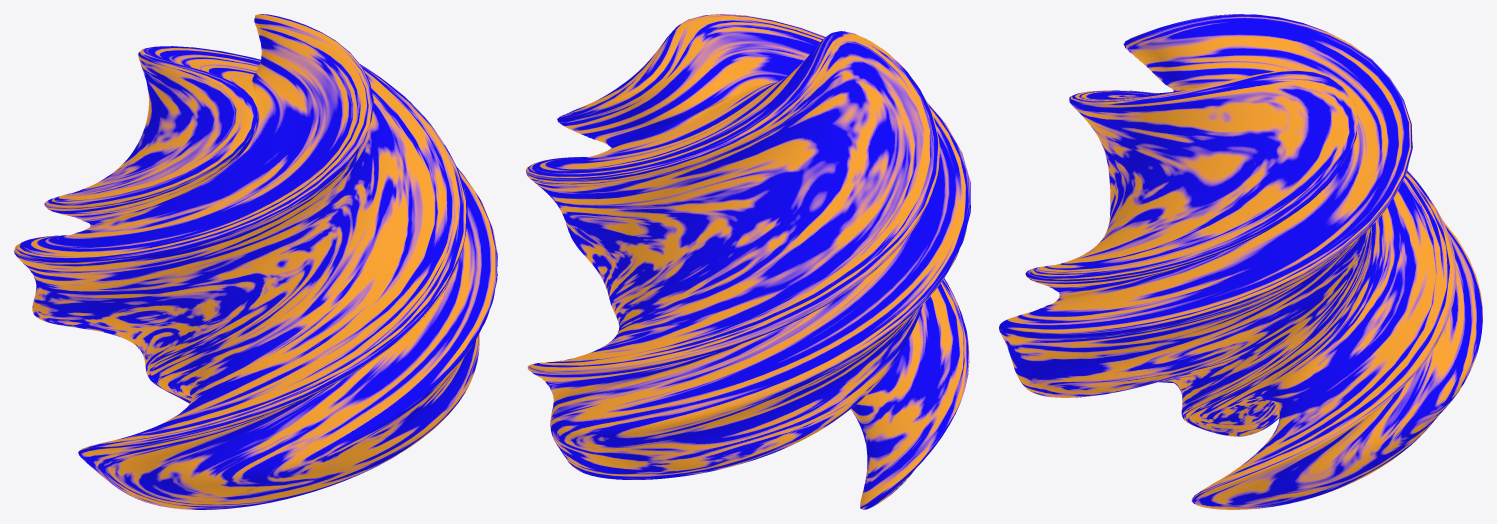
The model's file is twist.glb.
The picture shows the model from 3 angles, left to right: view 1: azimuth 30°, elevation 25°; view 2: azimuth 150°, elevation 25°; view 3: azimuth 270°, elevation 25°; orthographic projection. The views are drawn at different scales.
Parts seen in each view (by area): view 1: Sphere.001; view 2: Sphere.001; view 3: Sphere.001.
Part boxes in pixels (x1,y1,x2,y2): Sphere.001: [14, 14, 497, 509]; Sphere.001: [526, 14, 970, 509]; Sphere.001: [999, 14, 1482, 509].
Size of the model in its own units: 1.59 by 1.56 by 1.7.
1 material, 1 textured.
